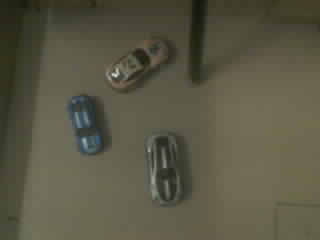Car: (105, 39, 166, 91), (146, 131, 182, 204), (69, 95, 102, 153)
